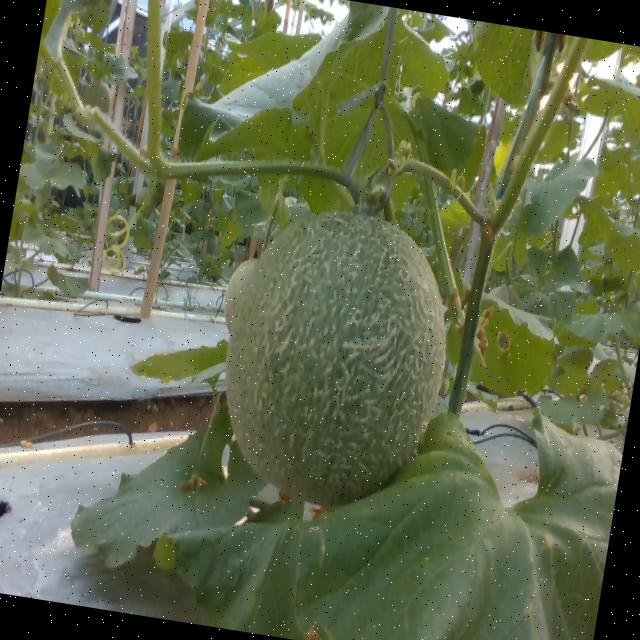melon: (225, 212, 447, 507)
